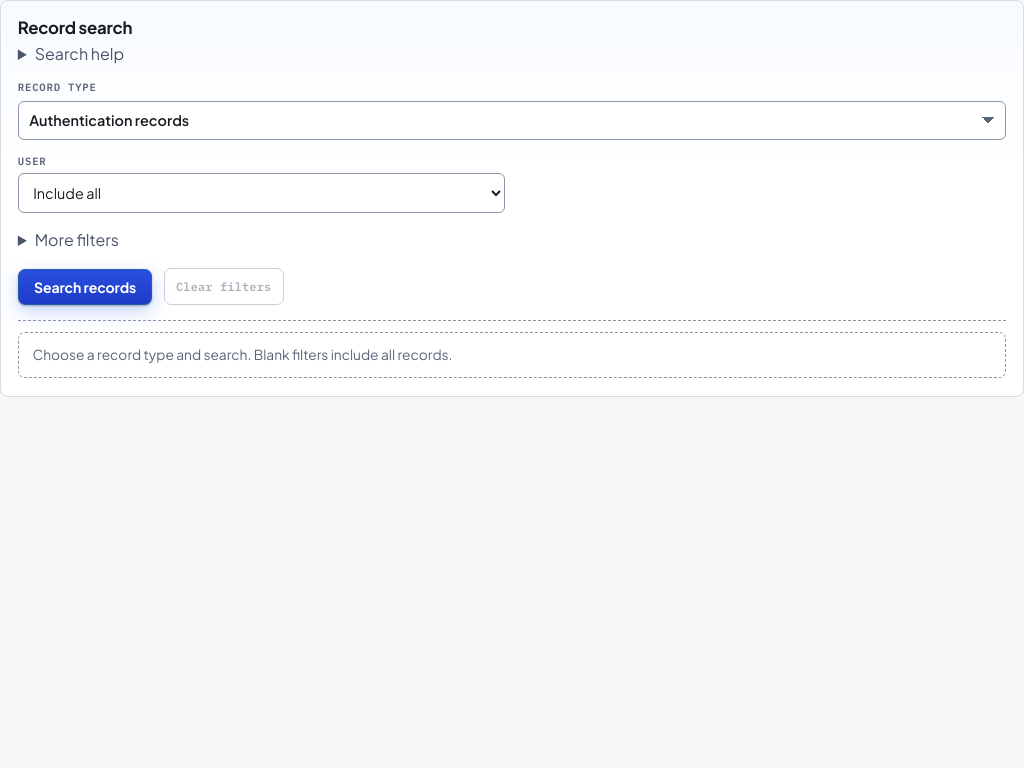
Test: RecordQueryTool › swaps visible filters when the dataset changes
This screenshot has width=1024, height=768.
Expected: the field labelled "Session ID" is not shown
Click the heading "More filters" at [77, 240], box [35,229,119,250]
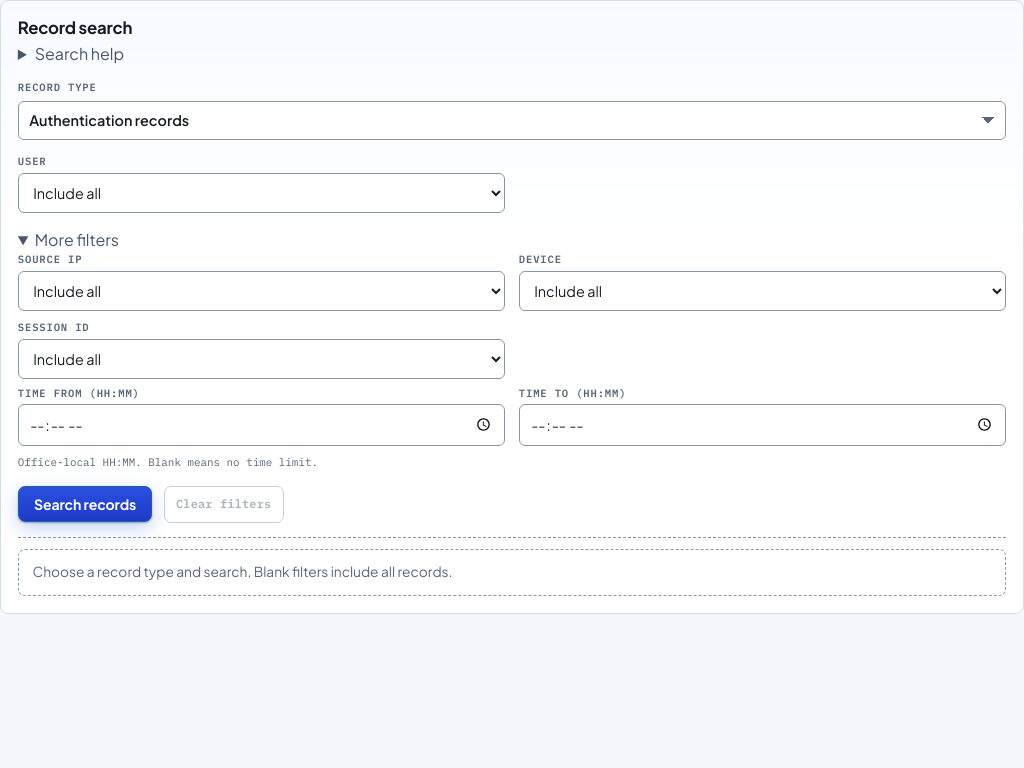
Expected: the field labelled "Assigned user" is not shown
Expected: the dropdown labelled "Session ID" is shown, [18,339,505,379]
Select "Device inventory" in the dropdown labelled "Record type" at [512, 120], box [18,101,1006,140]
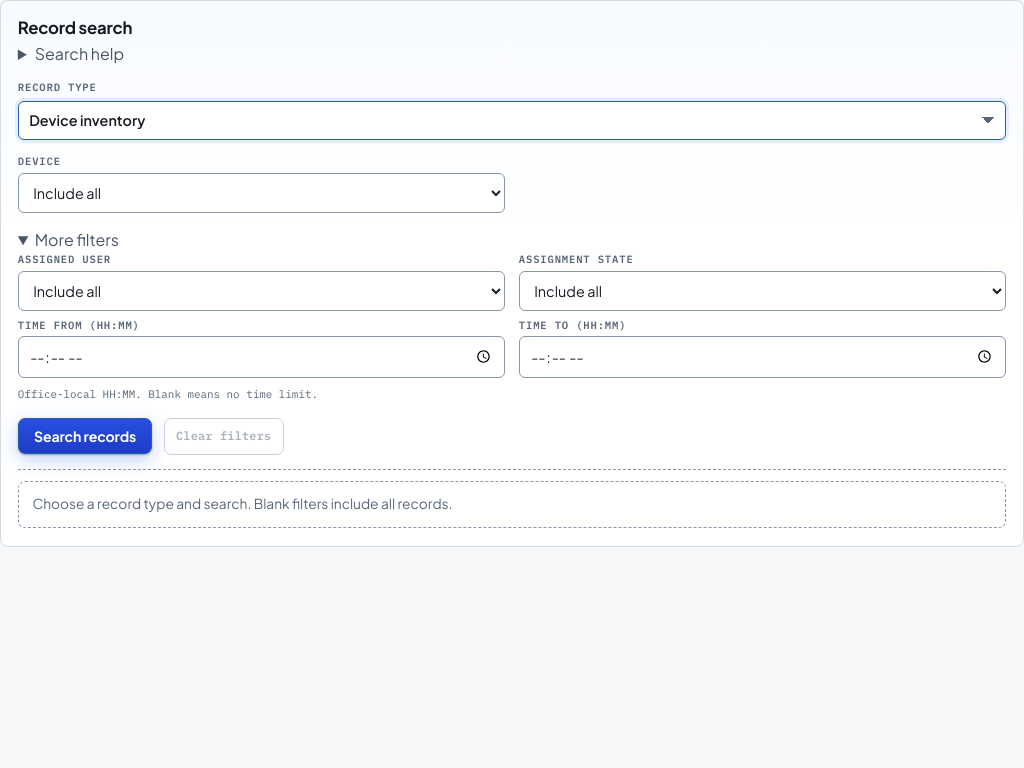
Expected: the dropdown labelled "Assigned user" is shown, [18,271,505,311]
Expected: the label labelled "Session ID" is gone
